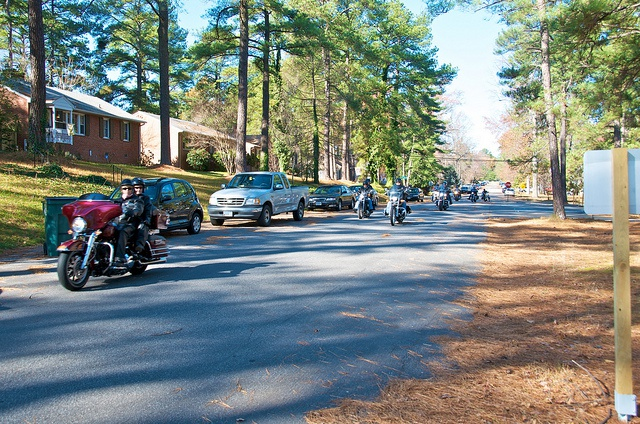non-vehicle: (55, 192, 165, 294), (384, 187, 409, 225), (350, 186, 374, 222), (436, 189, 449, 210), (453, 190, 460, 201), (469, 191, 476, 202), (481, 192, 487, 201)
